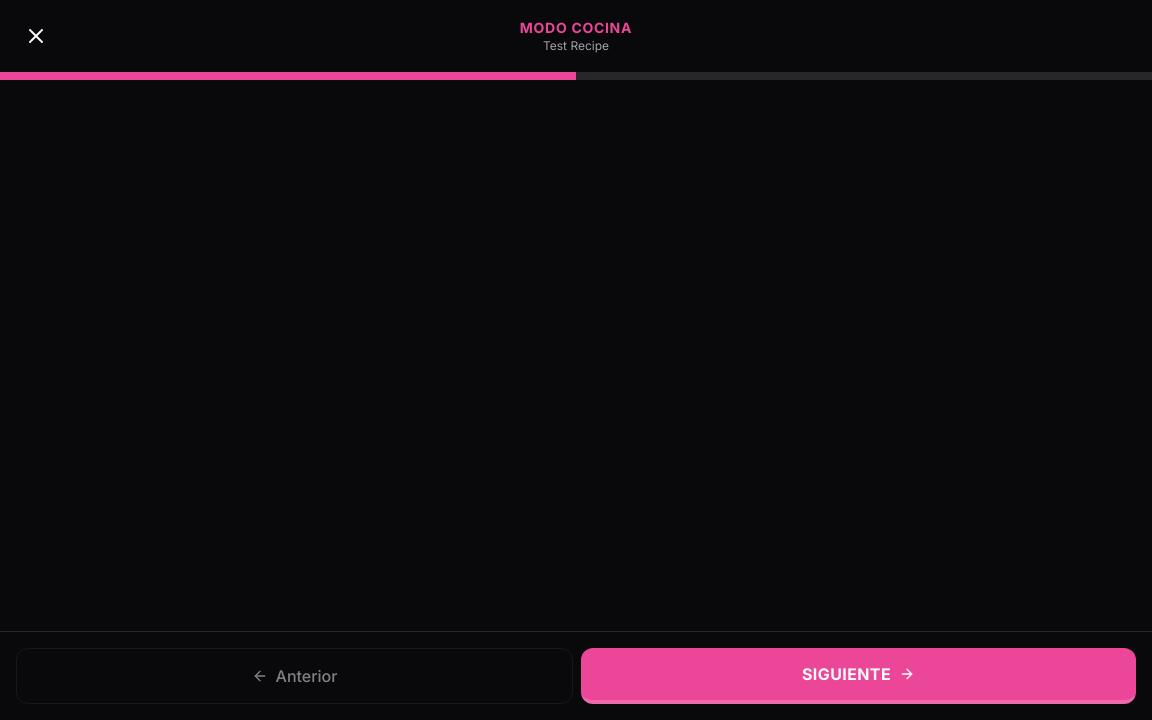
CookingModeClient › navigates to previous step
The width and height of the screenshot is (1152, 720).
Step 1. Click the button "Siguiente" → (858, 676), box [581,648,1136,704]
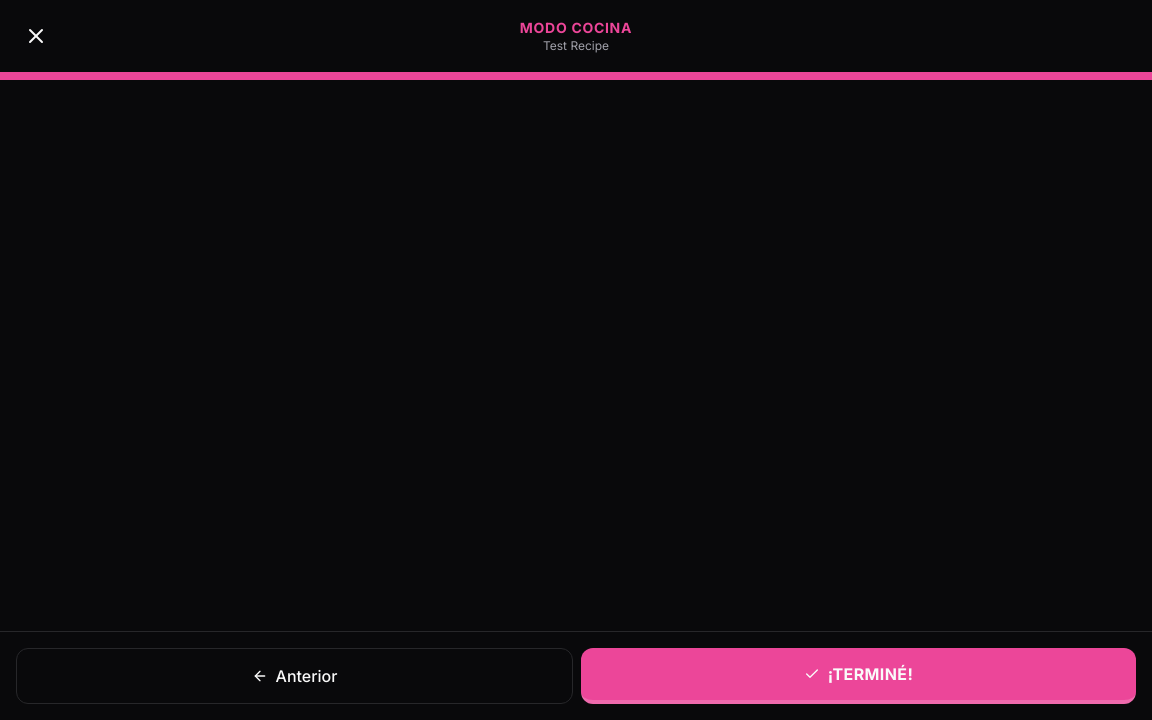
Step 2. Click the button "Anterior" → (294, 676), box [16,648,573,704]
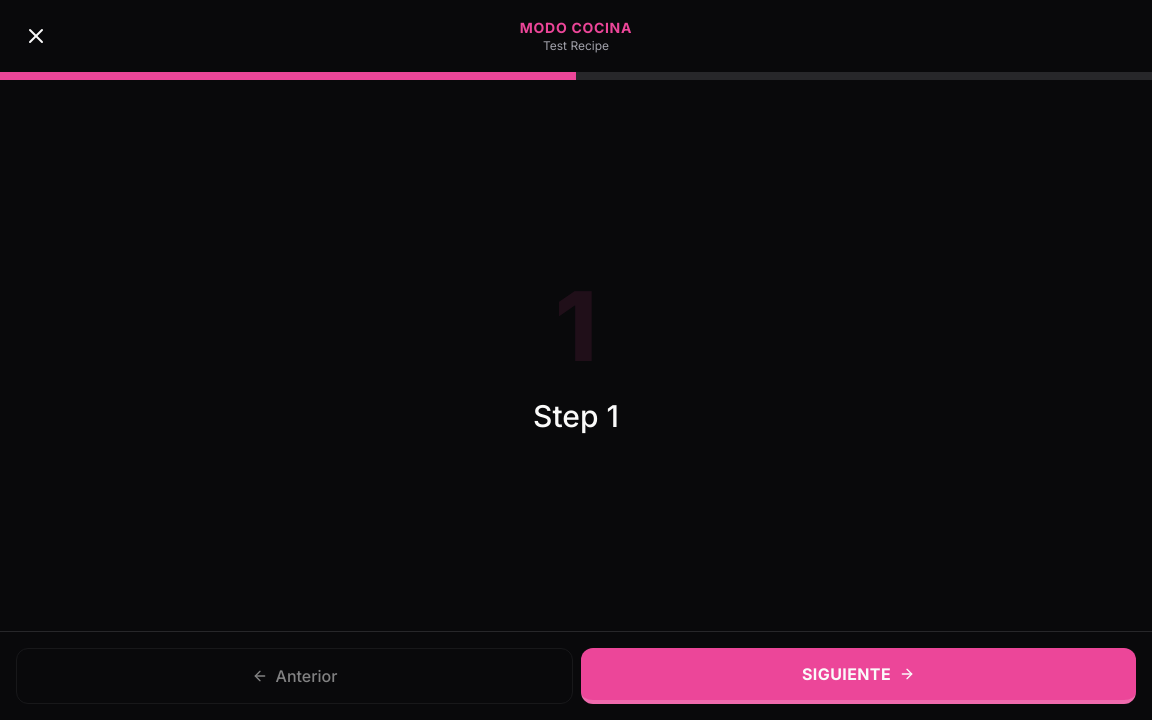
expect the text "Step 1" is shown: met, box [533,398,619,434]
